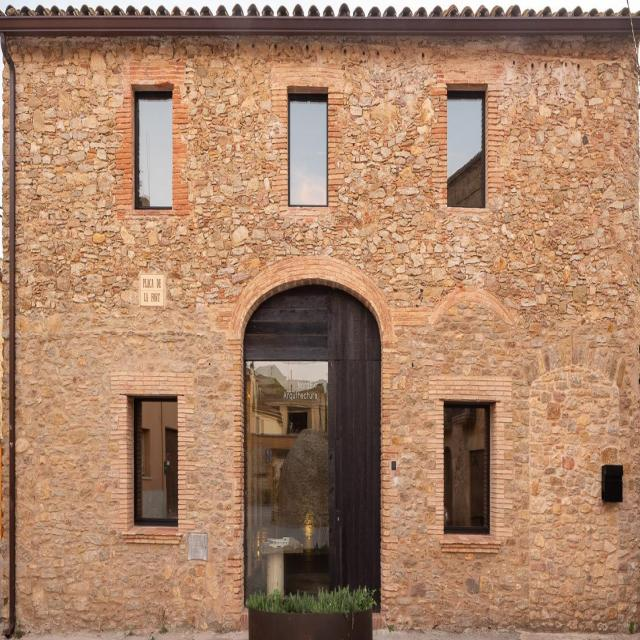window: (244, 359, 328, 600), (443, 403, 490, 536), (133, 397, 180, 529), (135, 90, 173, 208), (447, 95, 486, 208), (290, 99, 326, 210)
